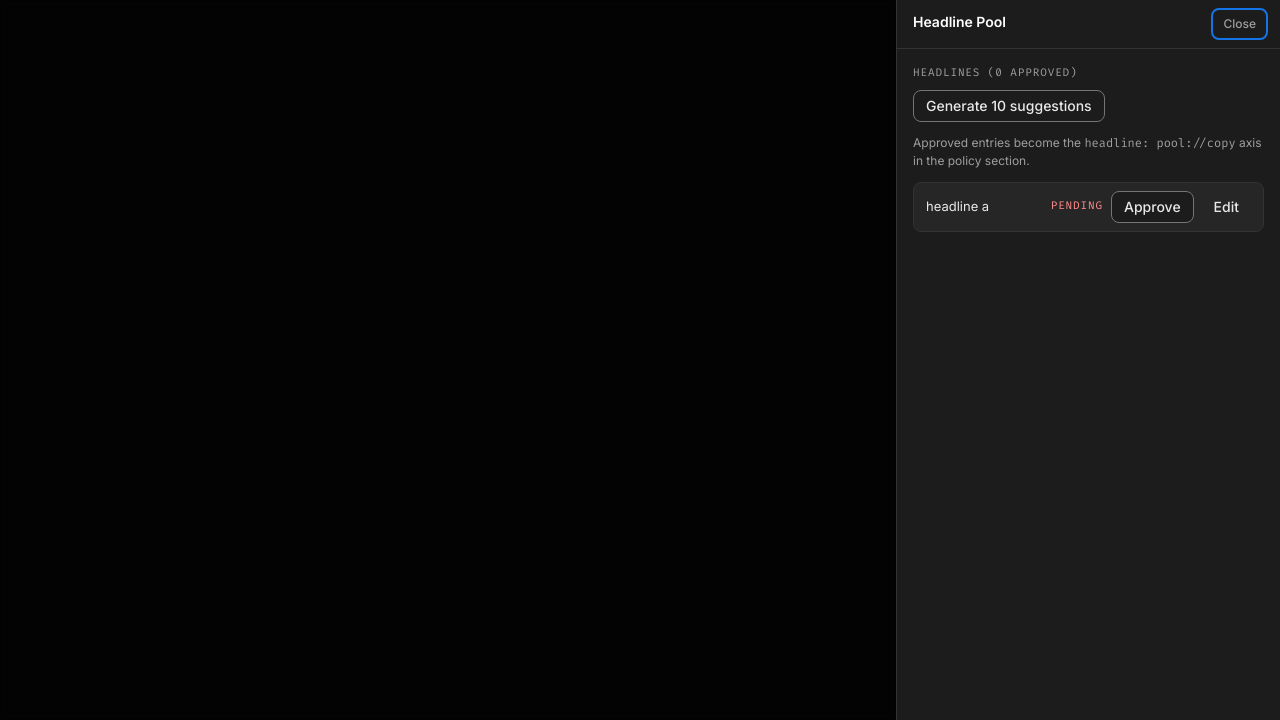
Test: HeadlinePoolDrawer › a failed edit keeps the editor open so the text is not lost
Expected: the text "headline a" is shown, [926, 198, 989, 214]
Click the button with aria-label "Edit a": [1226, 206] box [1202, 190, 1251, 222]
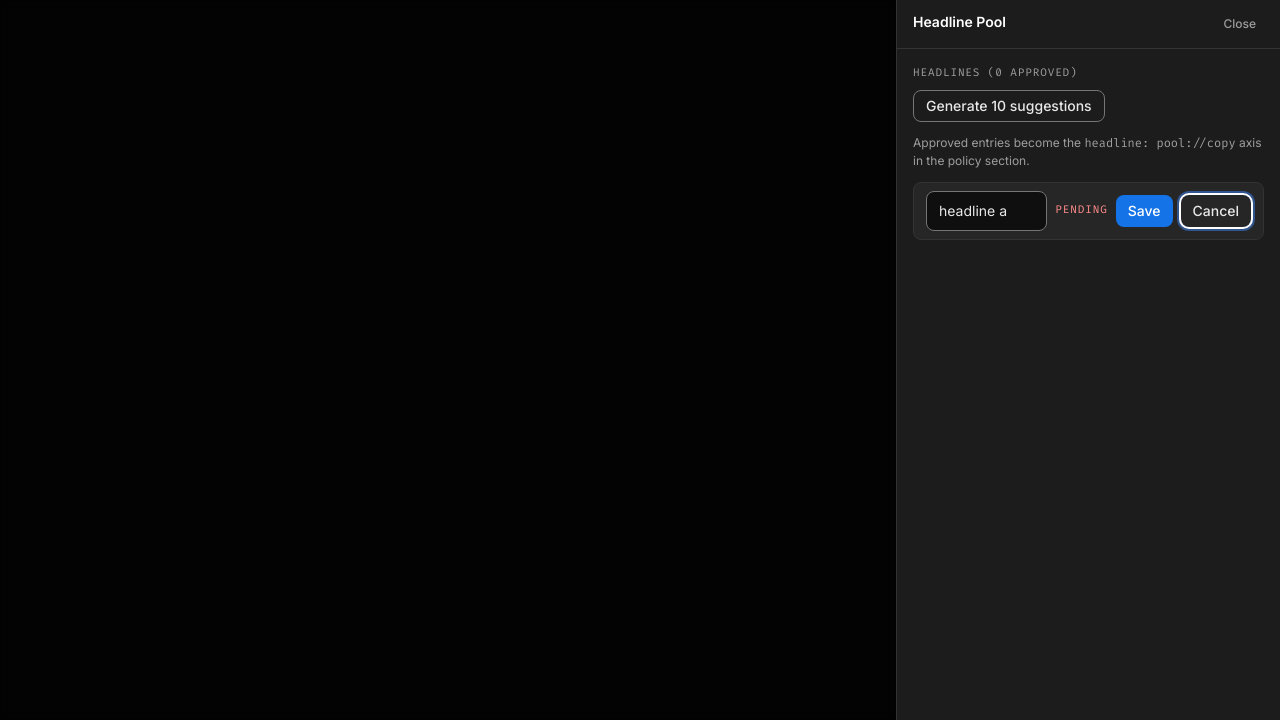
In the field named "Edit a": [987, 210] box [926, 190, 1047, 230], type " more"
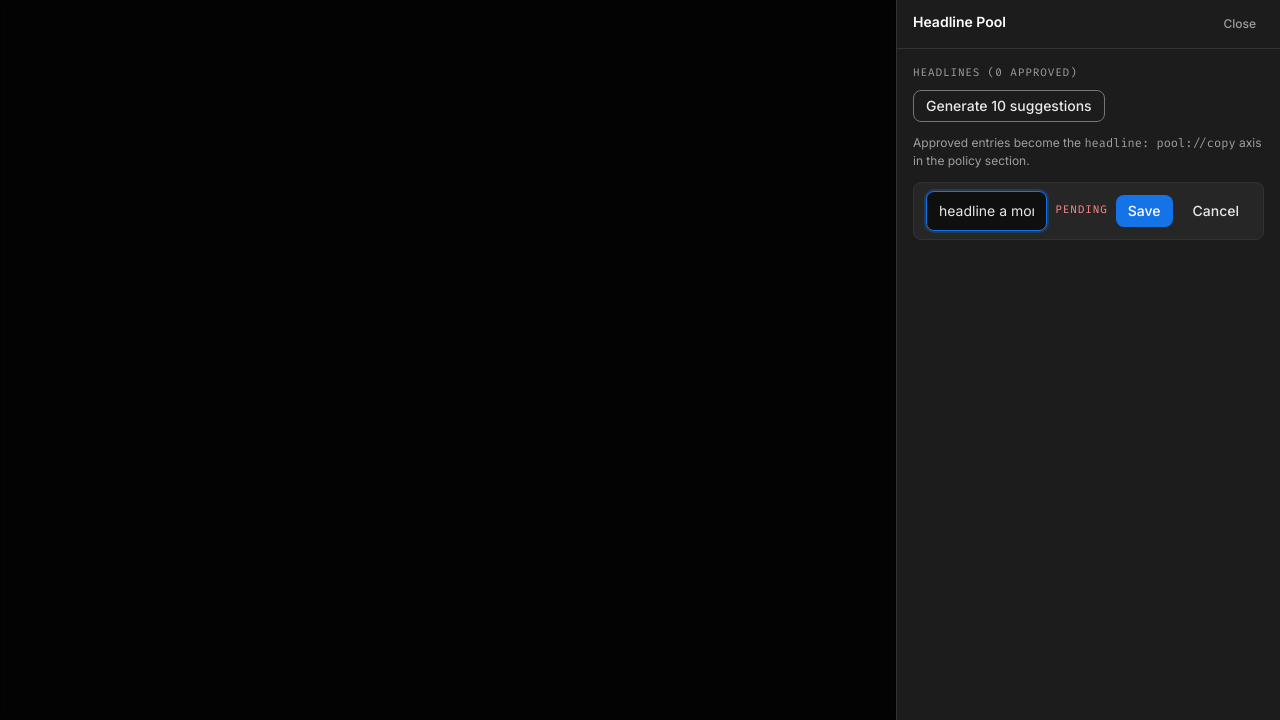
Click the button with aria-label "Save a": [1144, 210] box [1116, 194, 1172, 226]
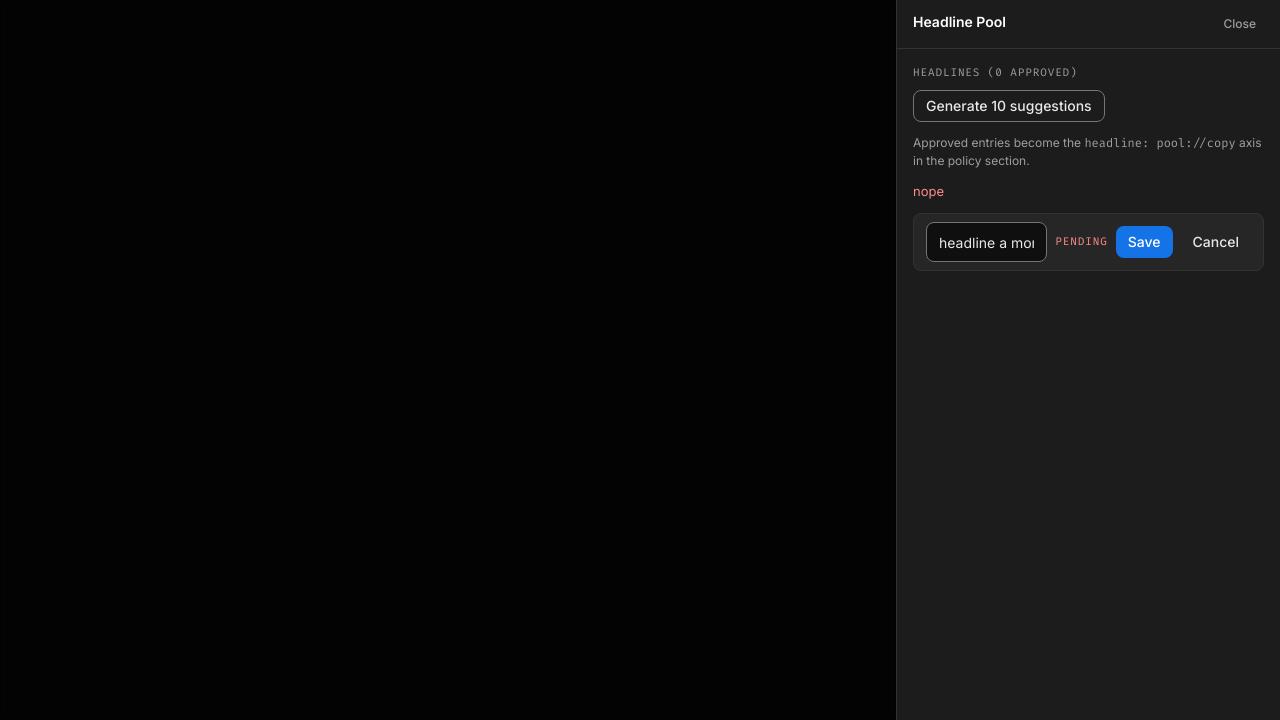
Expected: the field named "Edit a" is shown, [926, 222, 1047, 262]
Expected: the text "nope" is shown, [913, 182, 944, 198]
